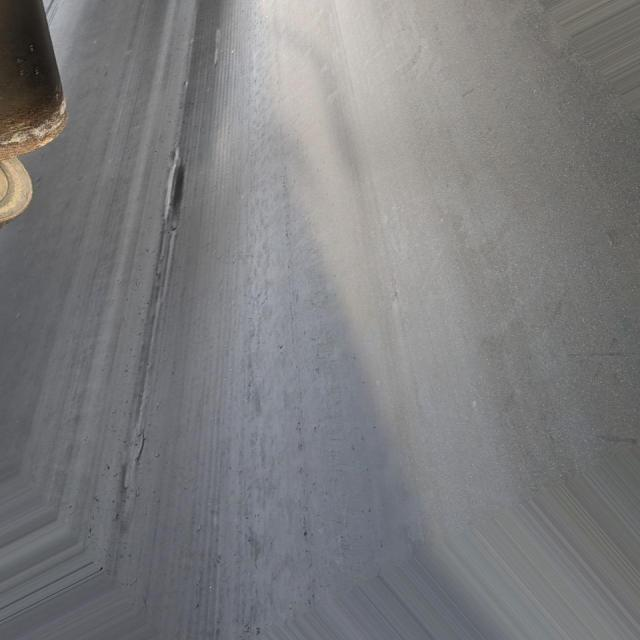Roller: (0, 0, 73, 157)
impact damage: (158, 167, 187, 228)
